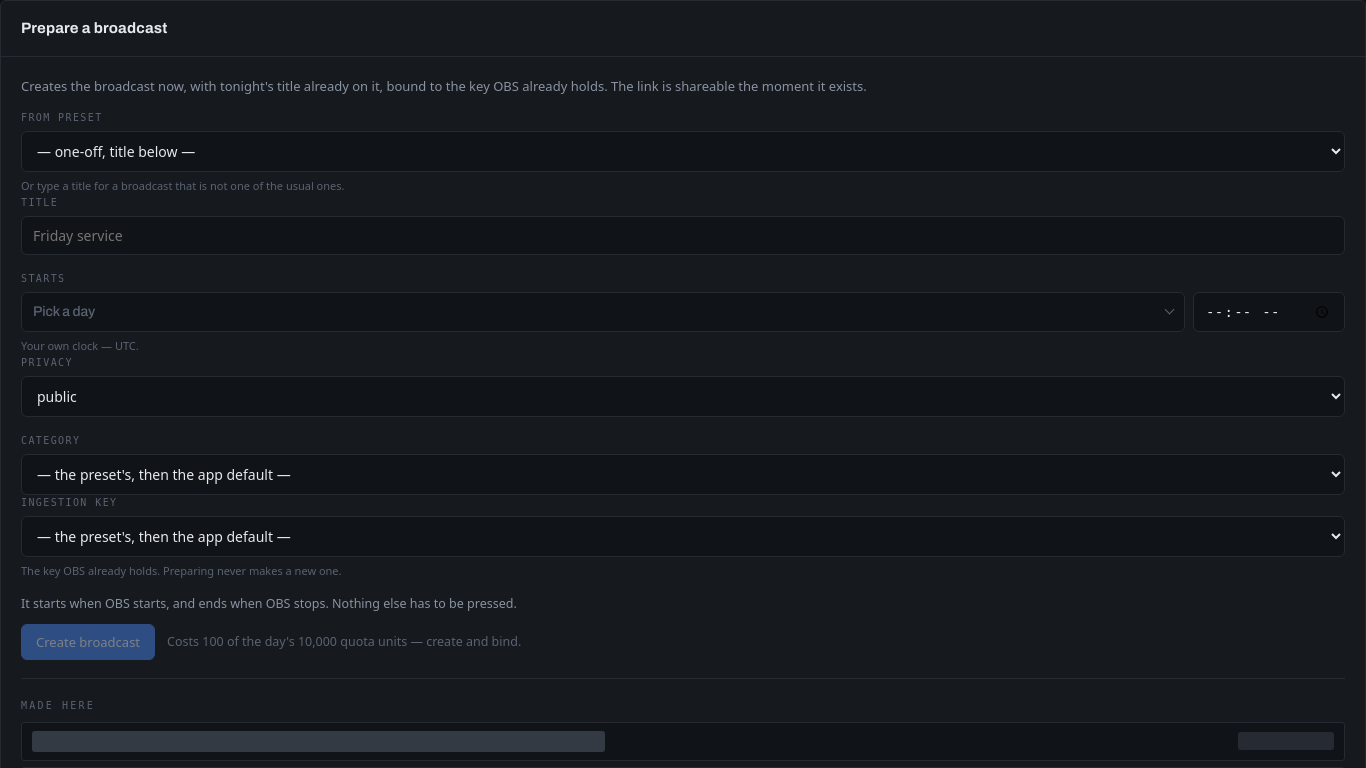
it: PrepareBroadcast › still follows a preset's own privacy over the default (issue 074)
This screenshot has width=1366, height=768.
Select "Friday service" in the dropdown labelled "From preset": [683, 152] box [21, 131, 1345, 172]
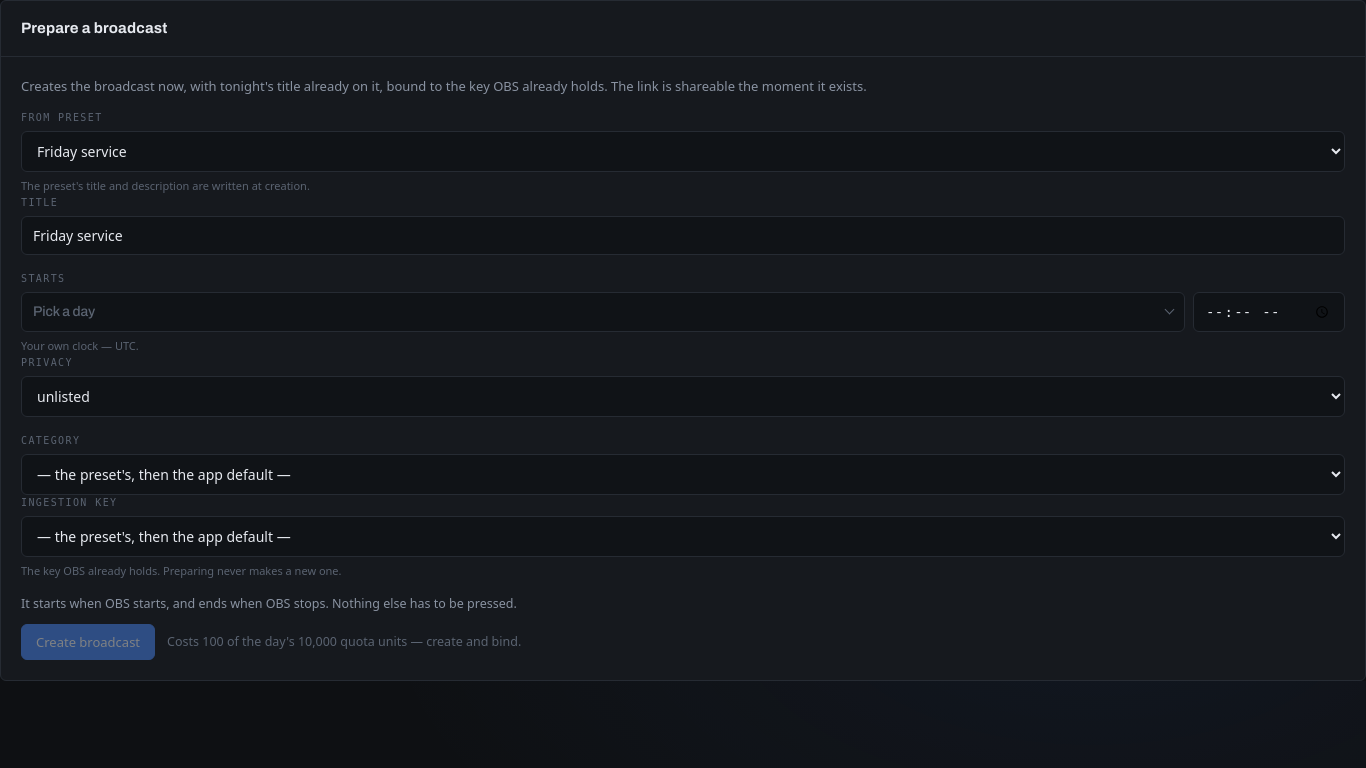
Check: the dropdown labelled "Privacy" shows "unlisted", box [21, 376, 1345, 417]
